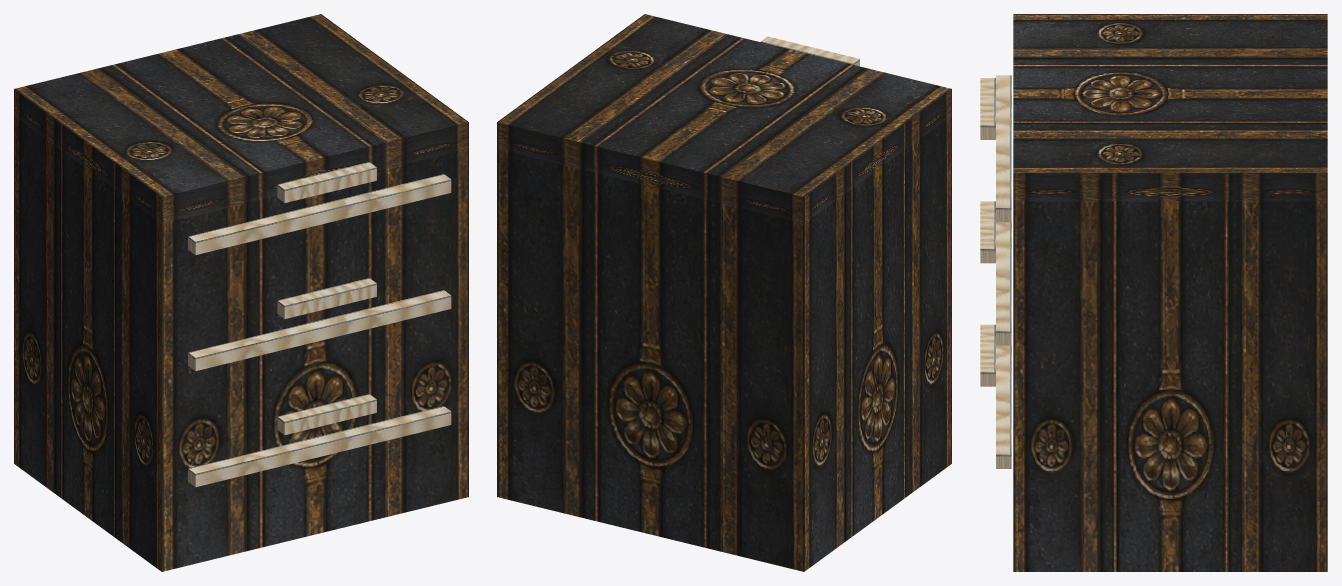
Rendered from bedside-cabinet.gltf.
3 renders of one model, left to right at view 1: azimuth 30°, elevation 25°; view 2: azimuth 150°, elevation 25°; view 3: azimuth 270°, elevation 25°, orthographic. The views are drawn at different scales.
Visible parts, largest first — view 1: kit:0:furniture:mahogany:, kit:0:furniture:gold:; view 2: kit:0:furniture:mahogany:, kit:0:furniture:gold:; view 3: kit:0:furniture:mahogany:, kit:0:furniture:gold:.
Part boxes in pixels (x1,y1,x2,y2): kit:0:furniture:mahogany:: (14, 14, 468, 571); kit:0:furniture:gold:: (188, 162, 451, 487); kit:0:furniture:mahogany:: (497, 14, 951, 571); kit:0:furniture:gold:: (760, 36, 859, 66); kit:0:furniture:mahogany:: (1013, 14, 1327, 571); kit:0:furniture:gold:: (980, 75, 1011, 468).
Size of the model in its own units: 0.6 by 0.7 by 0.5525.
2 materials, 2 textured.
